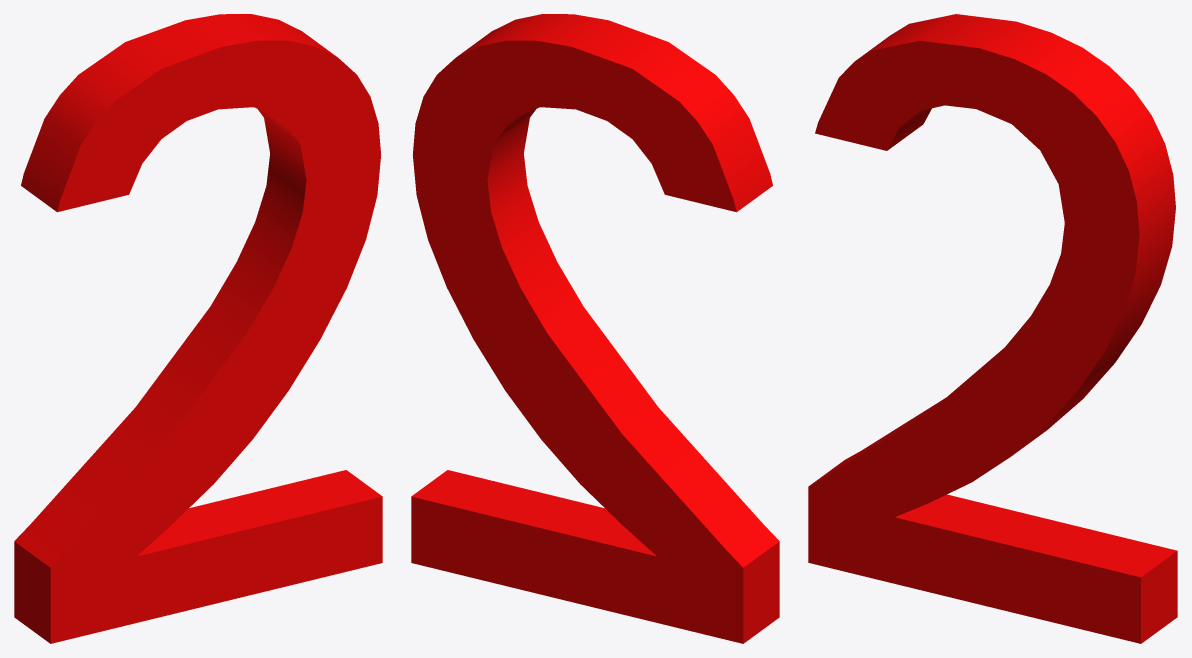
Rendered from original-67.obj.
3 views of the same model, side by side, from view 1: azimuth 30°, elevation 25°; view 2: azimuth 150°, elevation 25°; view 3: azimuth 330°, elevation 25° (orthographic).
Parts seen in each view (by area): view 1: mesh156/mesh156-geometry#mesh156-geometry; view 2: mesh156/mesh156-geometry#mesh156-geometry; view 3: mesh156/mesh156-geometry#mesh156-geometry.
Boxes of the visible parts, x1,y1,x2,y2 form: mesh156/mesh156-geometry#mesh156-geometry: [14, 14, 382, 643]; mesh156/mesh156-geometry#mesh156-geometry: [411, 14, 779, 643]; mesh156/mesh156-geometry#mesh156-geometry: [808, 14, 1177, 643].
Bounding box in the file's own units: 0.0081 × 0.0129 × 0.00154.
